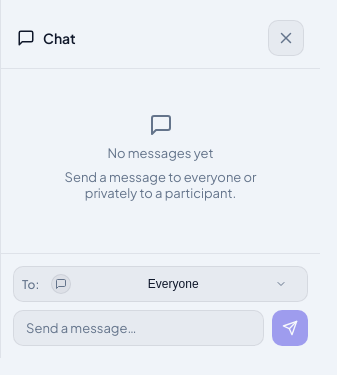
it: ChatPanel › send message › enables send button when input has text
Type "Hi" into the text box named "Chat message" at (138, 328), box [13,310,264,346]
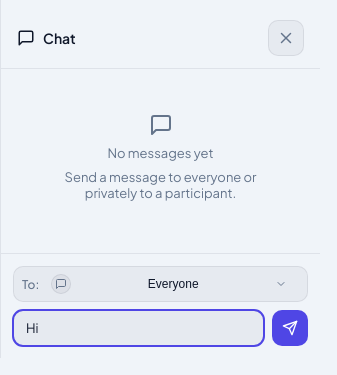
expect the button named "Send message" is enabled: met, box [272,310,308,346]
